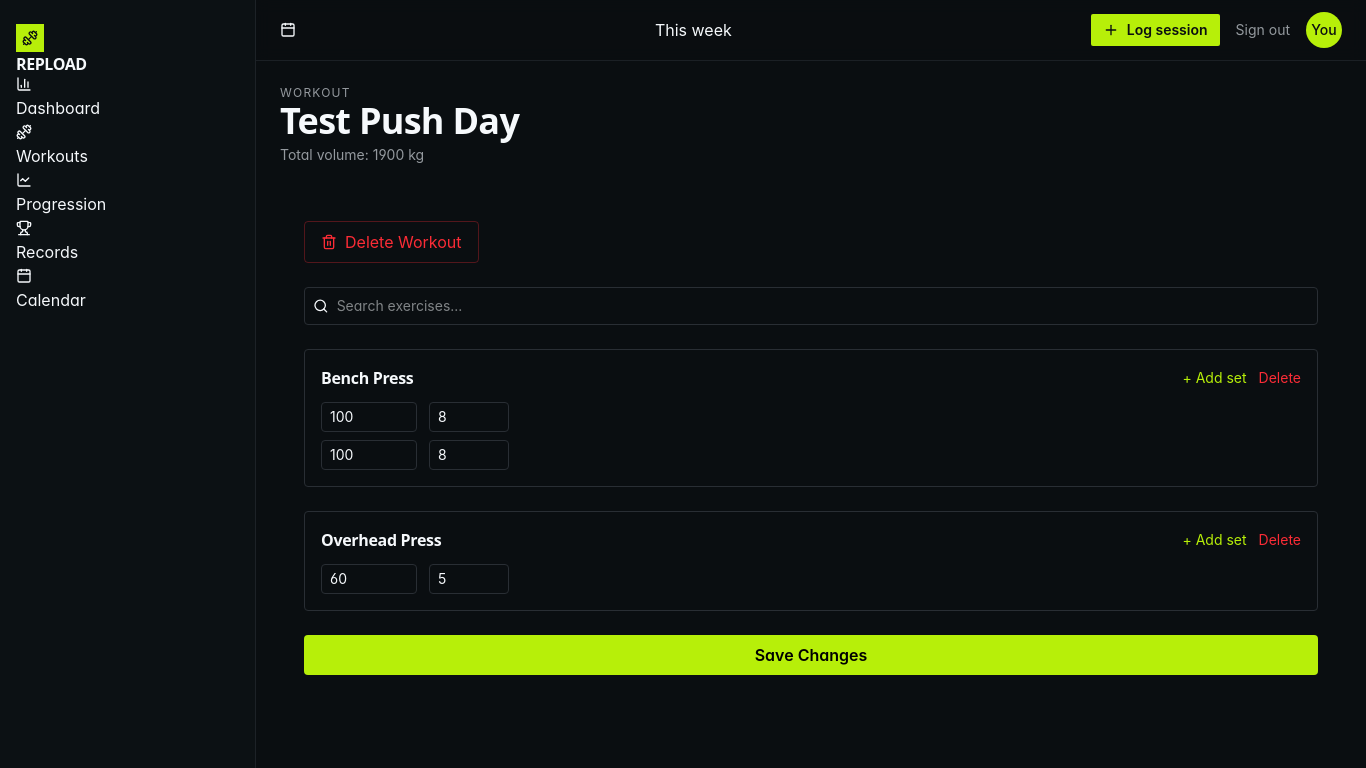
it: WorkoutPage (workouts/$id) › saves changes when save button is clicked
Replace the text in the 5th number field showing "60" with "65" at (369, 579), box [321,564,417,594]
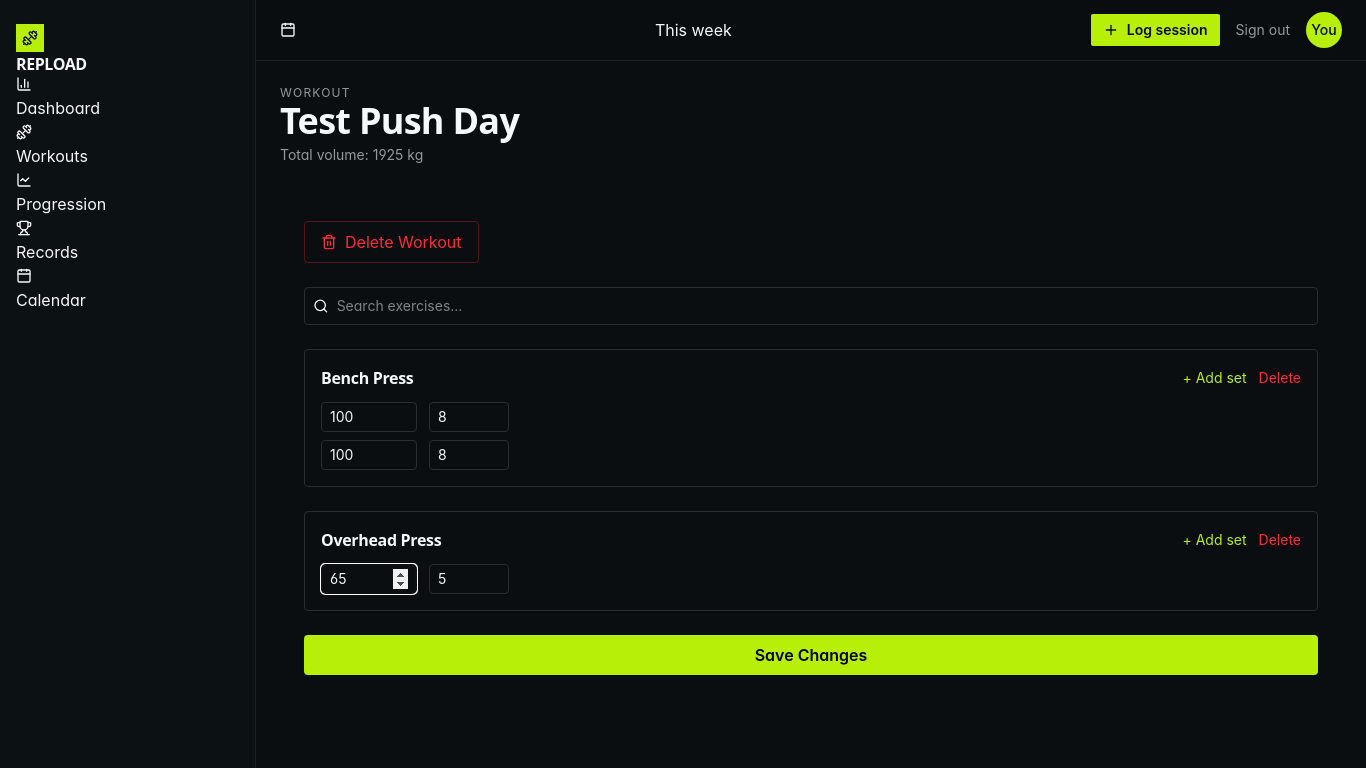
Click the button "Save Changes".
click(811, 655)  # box [304,635,1318,675]
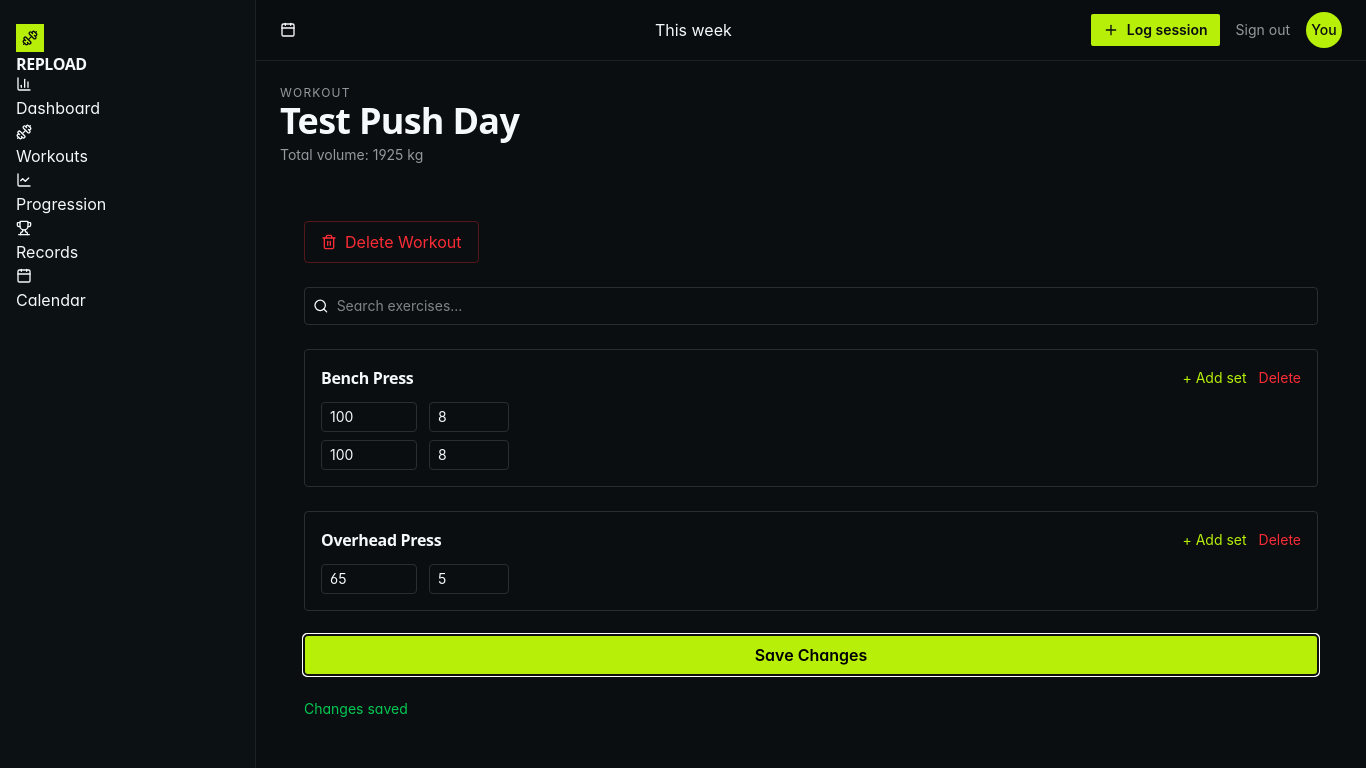
Result: the text "Changes saved" is shown at [304,700,408,717]
